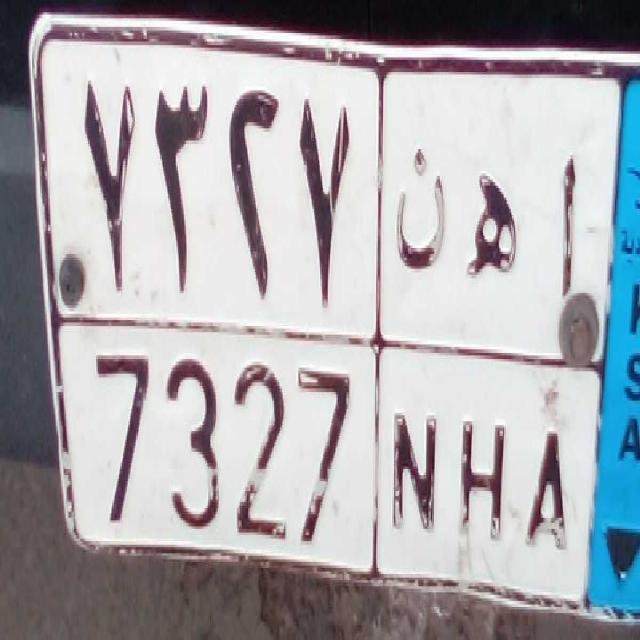license_plate: (73, 322, 586, 606)
